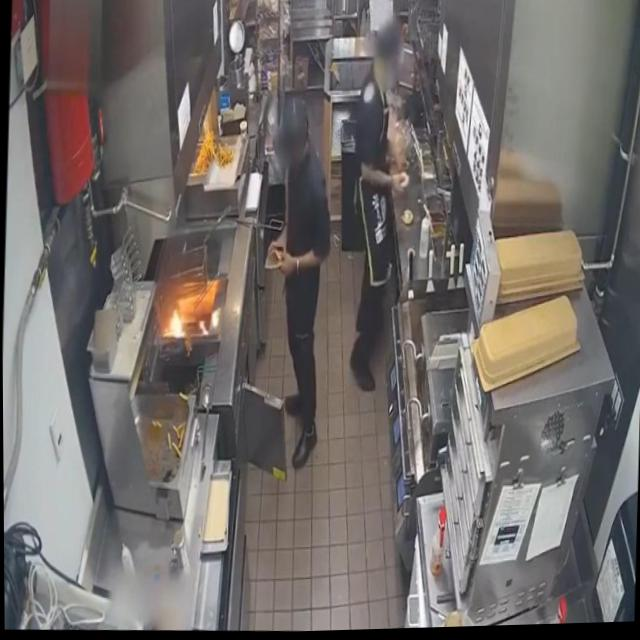fire: (162, 308, 186, 339), (196, 318, 208, 338)
